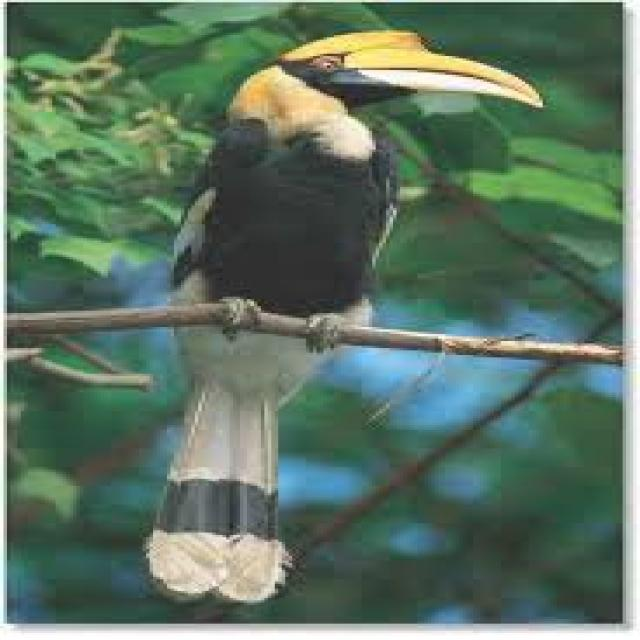Hornbill: (137, 12, 554, 597)
